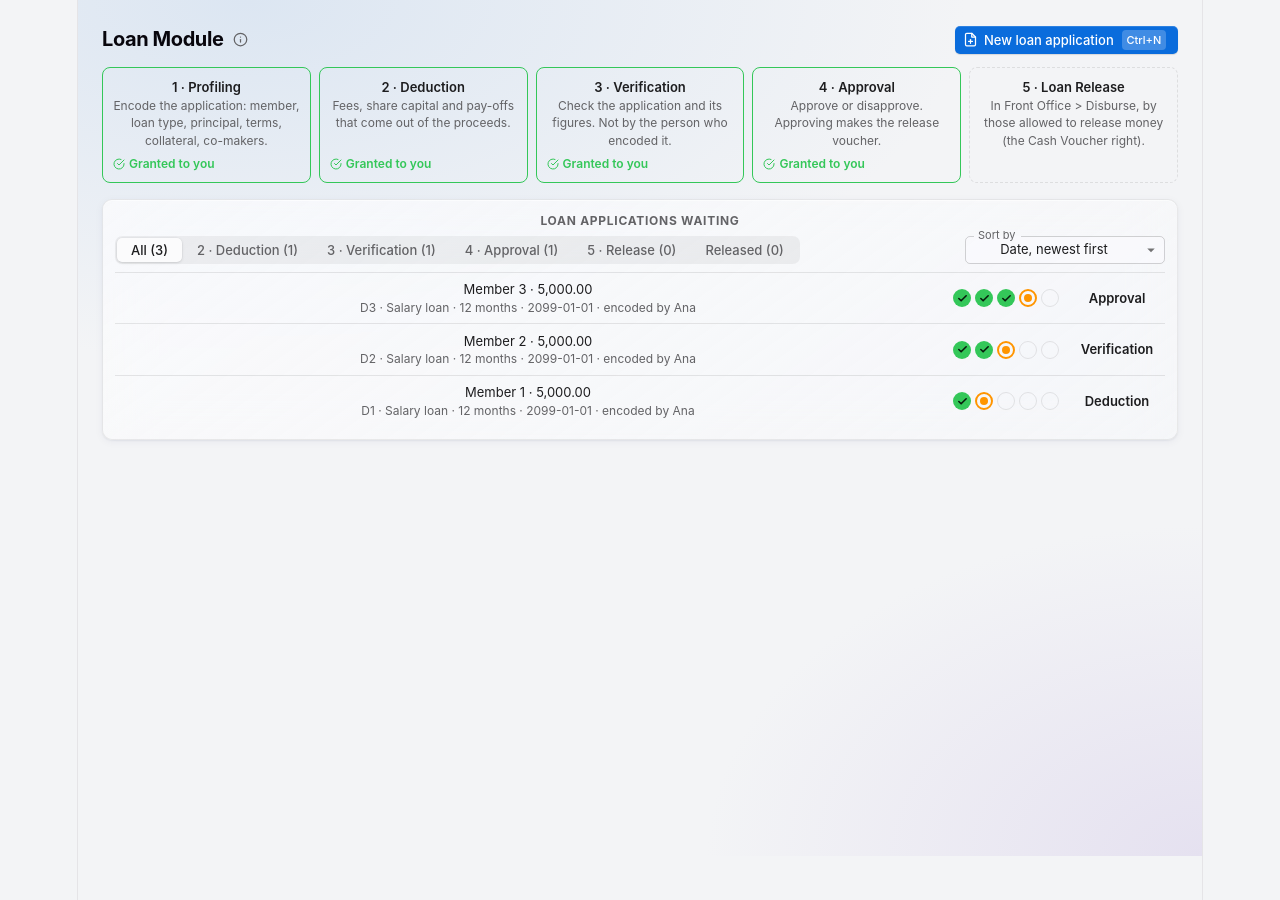
Test: Loan Module › narrows the list with the step buttons over it, each with its count
Click the button "2 · Deduction (1)".
click(248, 250)  # box [183, 238, 312, 262]
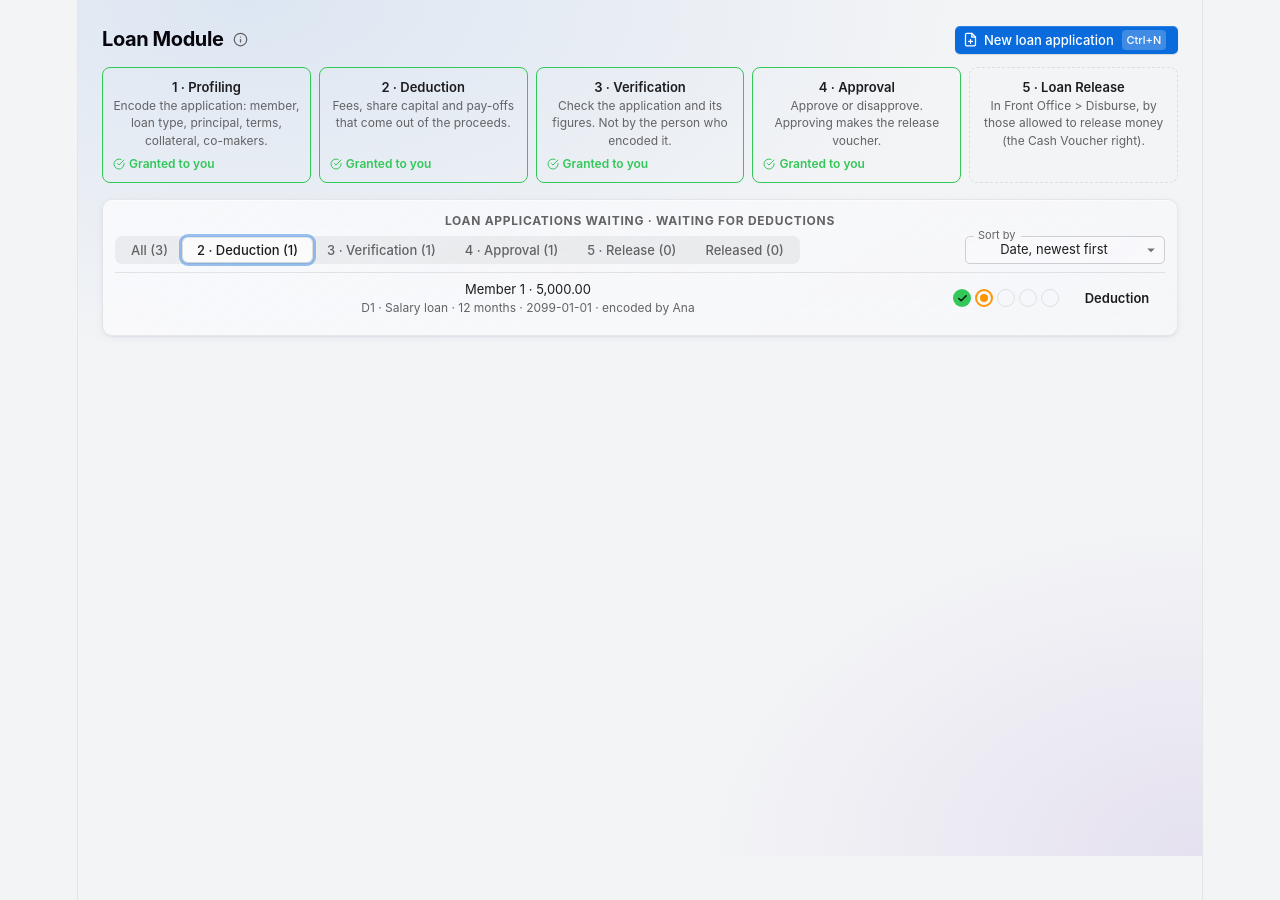
Expected: the text "Member 1 · 5,000.00" is shown, [465, 281, 591, 297]
Expected: the button "Member 2 ·" is gone
Click the button "3 · Verification (1)".
click(381, 250)  # box [313, 238, 450, 262]
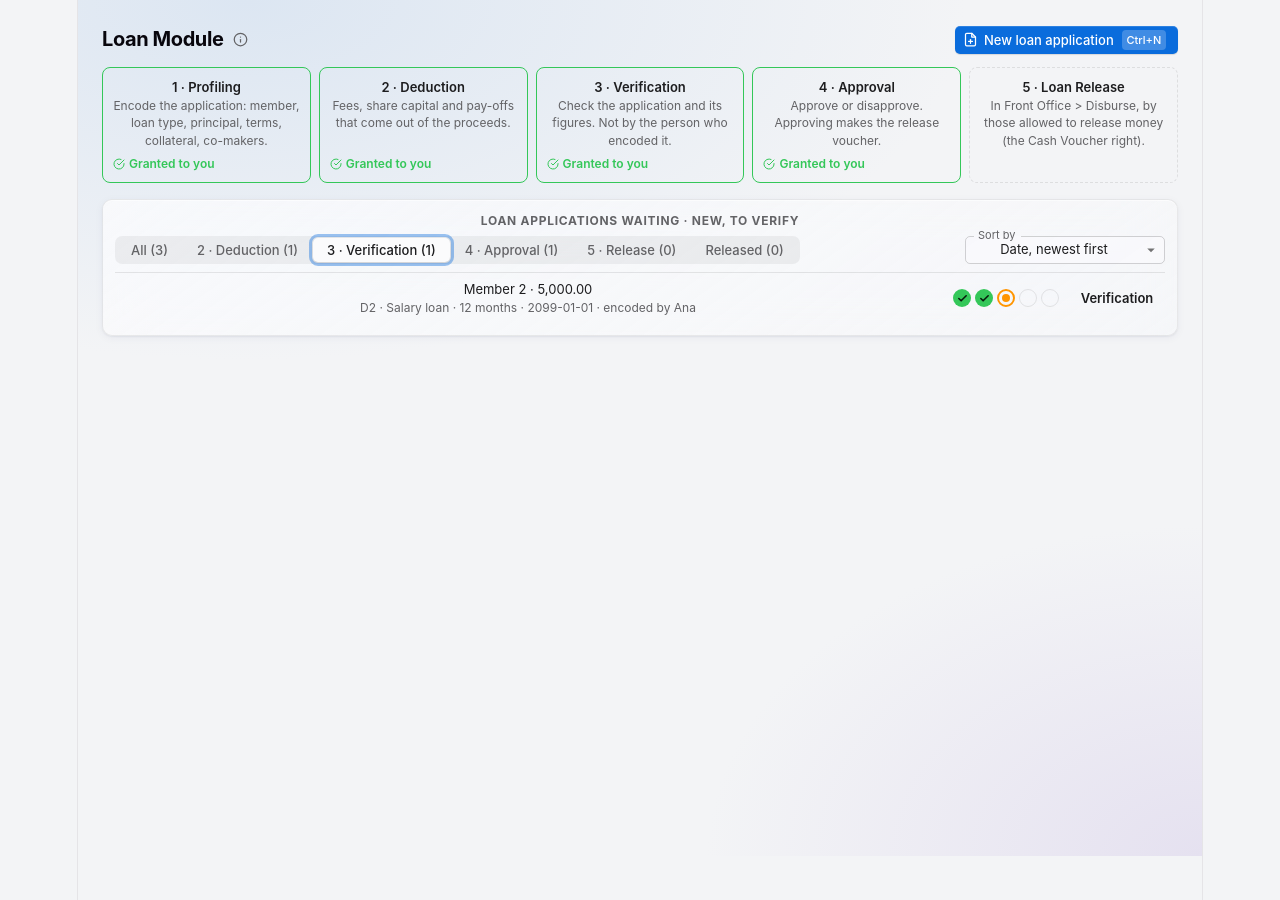
Expected: the button "Member 3 ·" is not shown
Expected: the text "Member 2 · 5,000.00" is shown, [464, 281, 592, 297]
Click the button "4 · Approval (1)".
click(512, 250)  # box [451, 238, 572, 262]
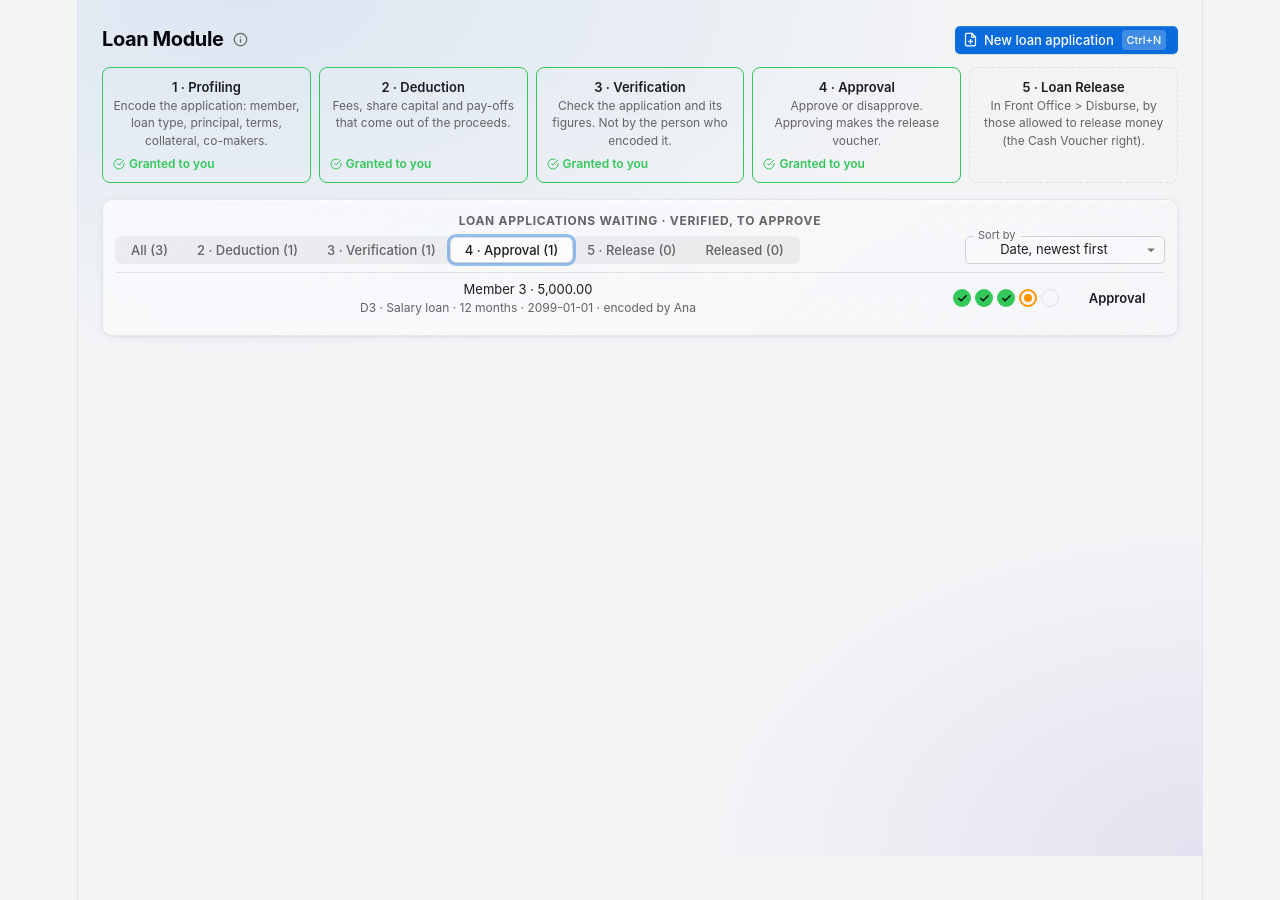
Expected: the button "Member 1 ·" is not shown
Expected: the text "Member 3 · 5,000.00" is shown, [464, 281, 592, 297]
